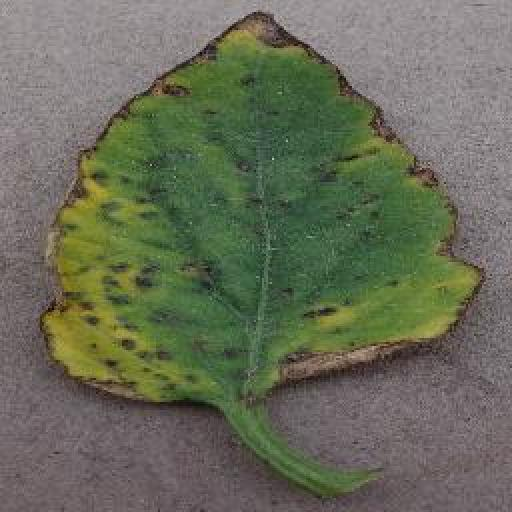Bacterial Spot: (36, 5, 487, 408)
